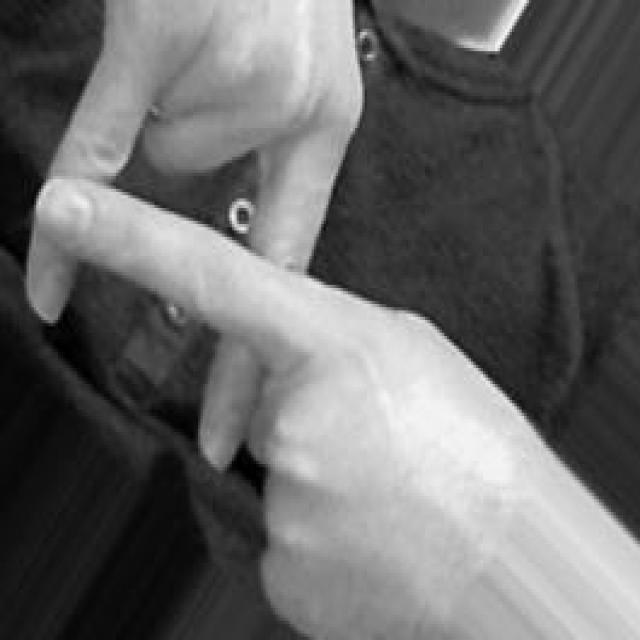H: (26, 2, 512, 640)
